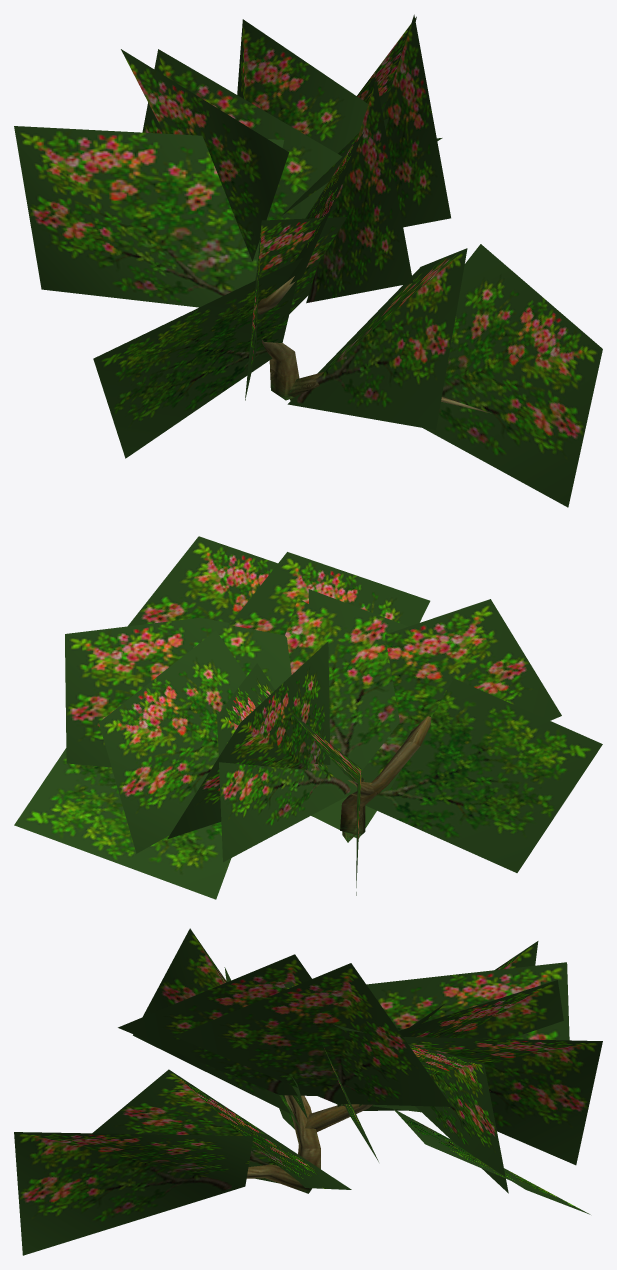
The model's file is guan_mu_035.FBX.
The picture shows the model from 3 angles, top to bottom: view 1: azimuth 30°, elevation 25°; view 2: azimuth 150°, elevation 25°; view 3: azimuth 270°, elevation 25°; orthographic projection. The views are drawn at different scales.
Parts seen in each view (by area): view 1: guan_mu_35; view 2: guan_mu_35; view 3: guan_mu_35.
Part boxes in pixels (x1=…): guan_mu_35: x1=14, y1=14, x2=602, y2=507; guan_mu_35: x1=14, y1=536, x2=602, y2=899; guan_mu_35: x1=14, y1=928, x2=602, y2=1255.
Bounding box in the file's own units: 534 × 378 × 657.
Materials: 2 (2 with a texture image).
